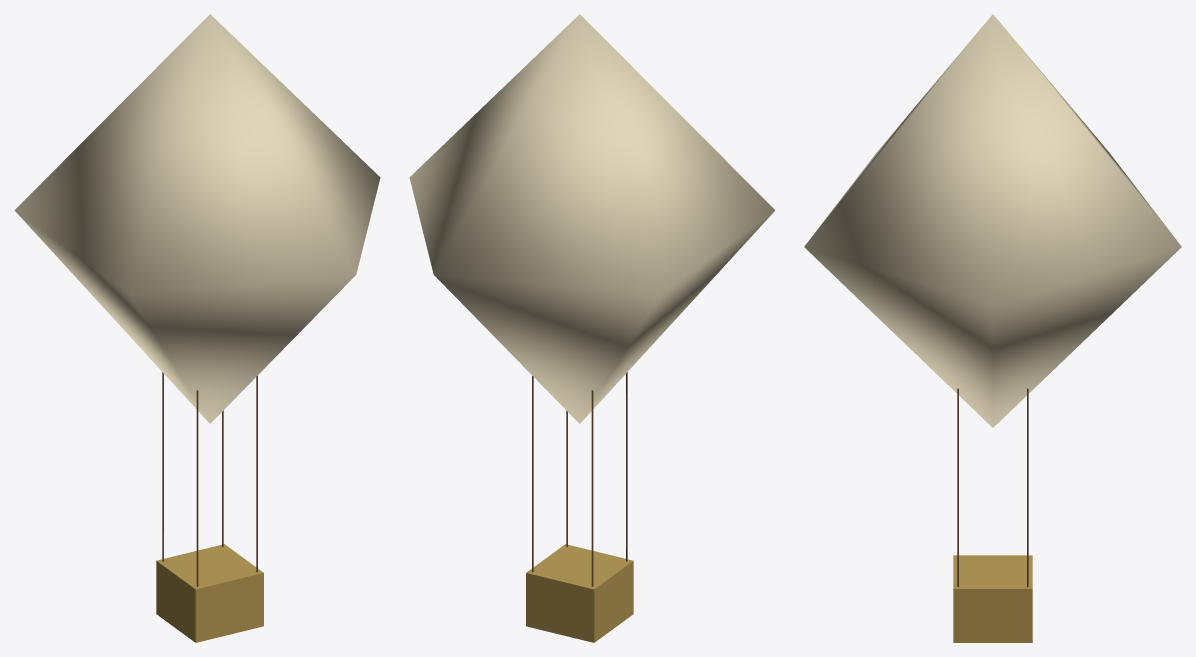
File: veh_air_balloon_a04_lod2.glb
3 renders of one model, left to right at view 1: azimuth 30°, elevation 25°; view 2: azimuth 150°, elevation 25°; view 3: azimuth 270°, elevation 25°, orthographic.
Visible parts, largest first — view 1: body; view 2: body; view 3: body.
Part boxes in pixels (x1,y1,x2,y2): body: (14,14,380,642); body: (409,14,775,642); body: (804,14,1181,642).
Size of the model in its own units: 7.24 by 13.6 by 7.61.
